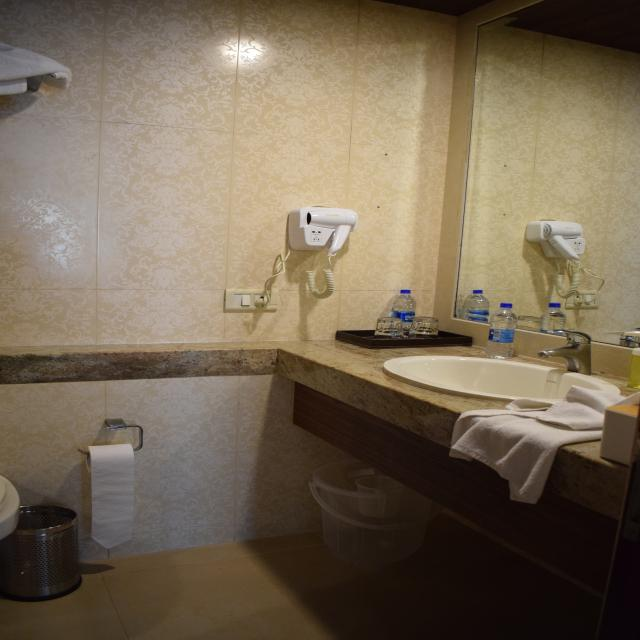mess: (277, 268, 640, 549)
